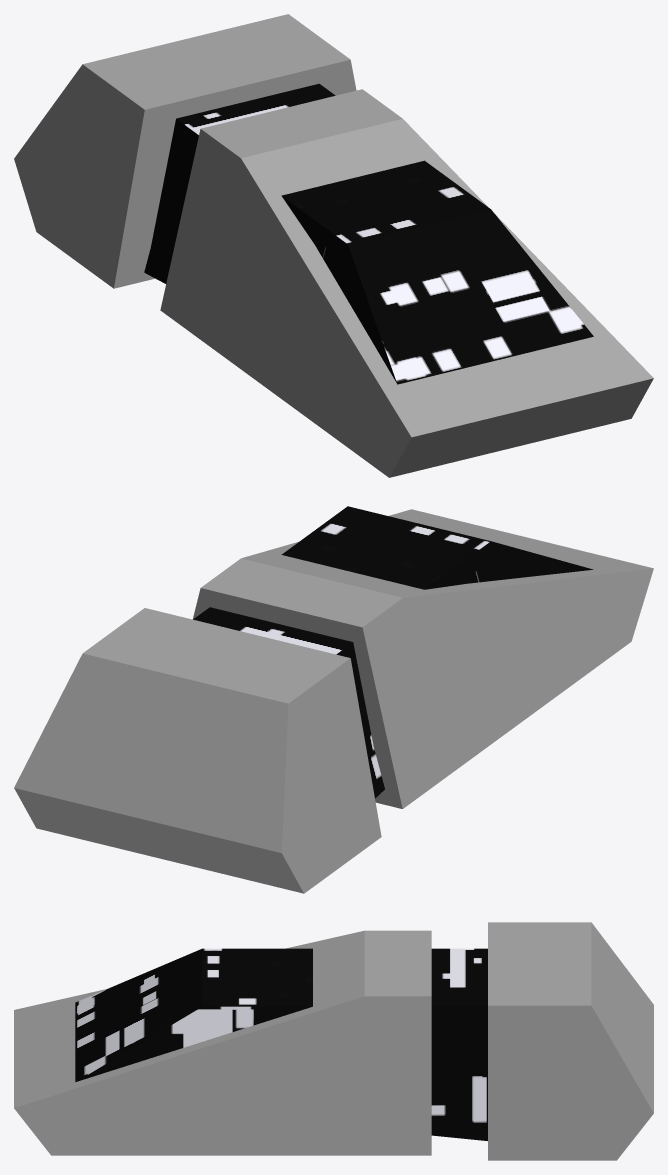
Rendered from Avi.fbx.
3 views of the same model, one above another, from view 1: azimuth 30°, elevation 25°; view 2: azimuth 150°, elevation 25°; view 3: azimuth 270°, elevation 25° (orthographic). The views are drawn at different scales.
Visible parts, largest first — view 1: Avi; view 2: Avi; view 3: Avi.
Boxes of the visible parts, bbox=[...] form: Avi: bbox=[14, 14, 653, 477]; Avi: bbox=[14, 506, 653, 893]; Avi: bbox=[14, 922, 653, 1160].
Size of the model in its own units: 0.297 by 0.1822 by 0.7394.
Materials: 2 (1 with a texture image).
